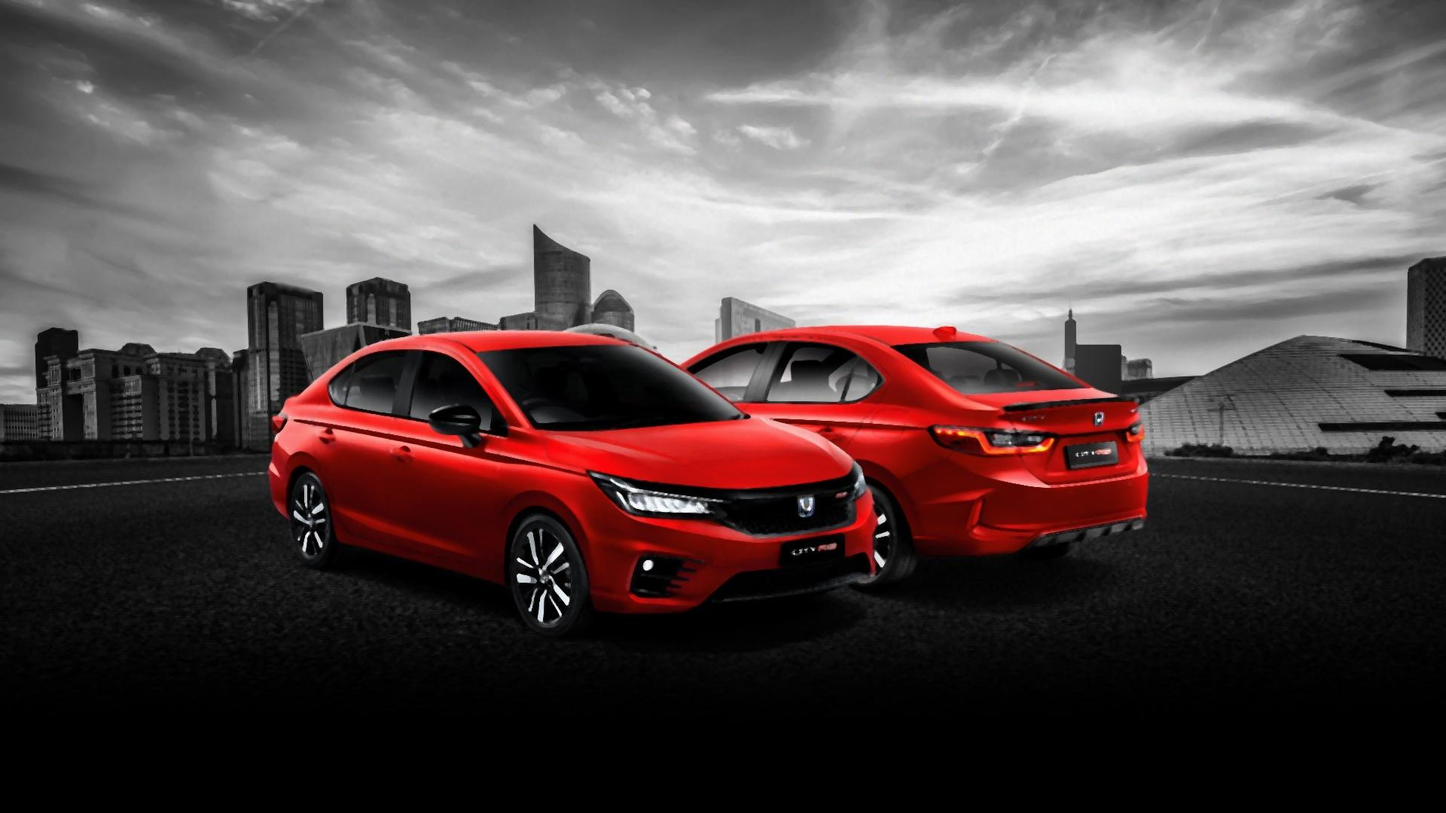Car boot: (968, 381, 1148, 487)
Car hood: (539, 410, 862, 492)
Driver-s door - -F-R-: (389, 339, 495, 567)
Fender - -F-R-: (495, 414, 609, 571)
Fender - -R-L-: (848, 355, 947, 493)
Fender - -R-R-: (278, 394, 338, 542)
Front bumper: (573, 487, 895, 621)
Headlight - -L-: (839, 456, 871, 505)
Headlight - -R-: (580, 464, 726, 523)
Passenger-s door - -R-L-: (752, 326, 896, 456)
Passenger-s door - -R-R-: (311, 336, 395, 556)
Rear bumper: (896, 457, 1164, 567), (255, 441, 299, 524)
Rear light - -L-: (921, 420, 1059, 459)
Rear light - -R-: (1114, 414, 1151, 449), (265, 402, 297, 442)
Side bumper - -R-: (323, 515, 510, 593)
Side mirror - -R-: (419, 398, 487, 453)
